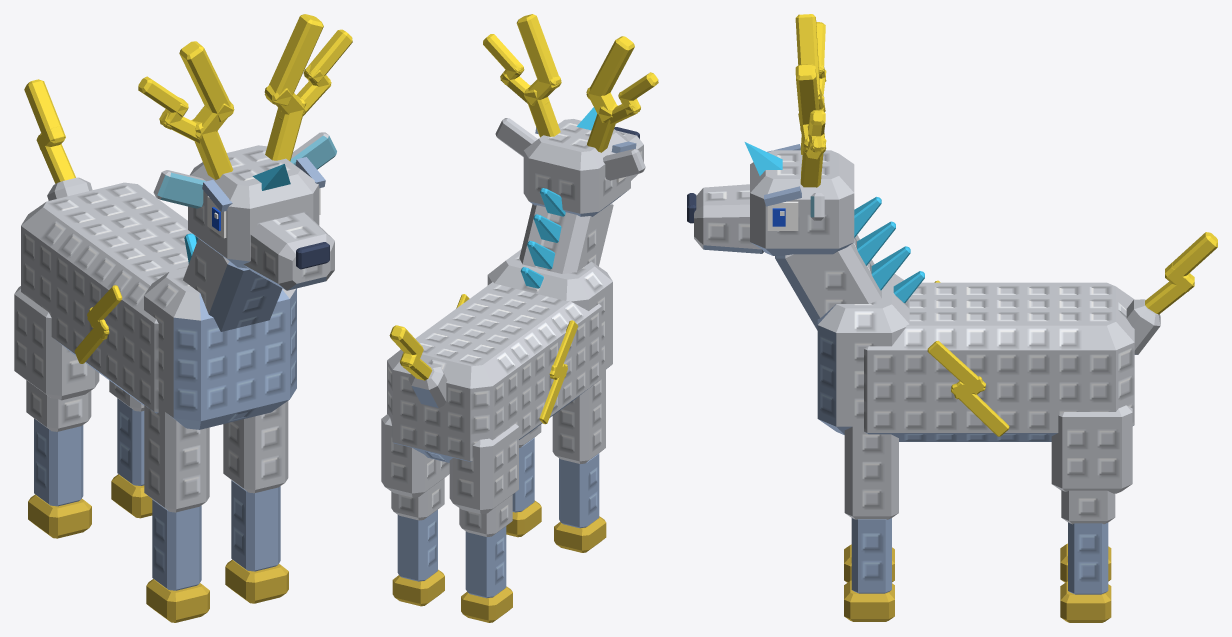
Rendered from Thunderhoof.glb.
3 renders of one model, left to right at view 1: azimuth 30°, elevation 25°; view 2: azimuth 150°, elevation 25°; view 3: azimuth 270°, elevation 25°, orthographic. The views are drawn at different scales.
Parts seen in each view (by area): view 1: Body, Lightning, LegBR, LegFR, LegFL, LegBL, Mane; view 2: Body, Lightning, LegBR, LegBL, LegFR, LegFL, Mane; view 3: Body, LegBL, LegFL, Lightning, Mane.
Boxes of the visible parts, x1,y1,x2,y2 form: Body: [21, 132, 336, 429]; Lightning: [24, 14, 352, 363]; LegBR: [14, 286, 99, 538]; LegFR: [144, 405, 209, 622]; LegFL: [223, 401, 288, 603]; LegBL: [109, 380, 152, 518]; Mane: [184, 164, 290, 263]; Body: [387, 118, 645, 462]; Lightning: [389, 14, 658, 424]; LegBR: [449, 424, 518, 622]; LegBL: [381, 414, 449, 606]; LegFR: [552, 368, 606, 552]; LegFL: [506, 424, 541, 537]; Mane: [520, 107, 597, 288]; Body: [687, 130, 1160, 441]; LegBL: [1051, 405, 1132, 622]; LegFL: [844, 426, 898, 621]; Lightning: [795, 14, 1217, 436]; Mane: [744, 142, 924, 302].
Size of the model in its own units: 2.93 by 7.96 by 6.87.
1 material, 1 textured.
